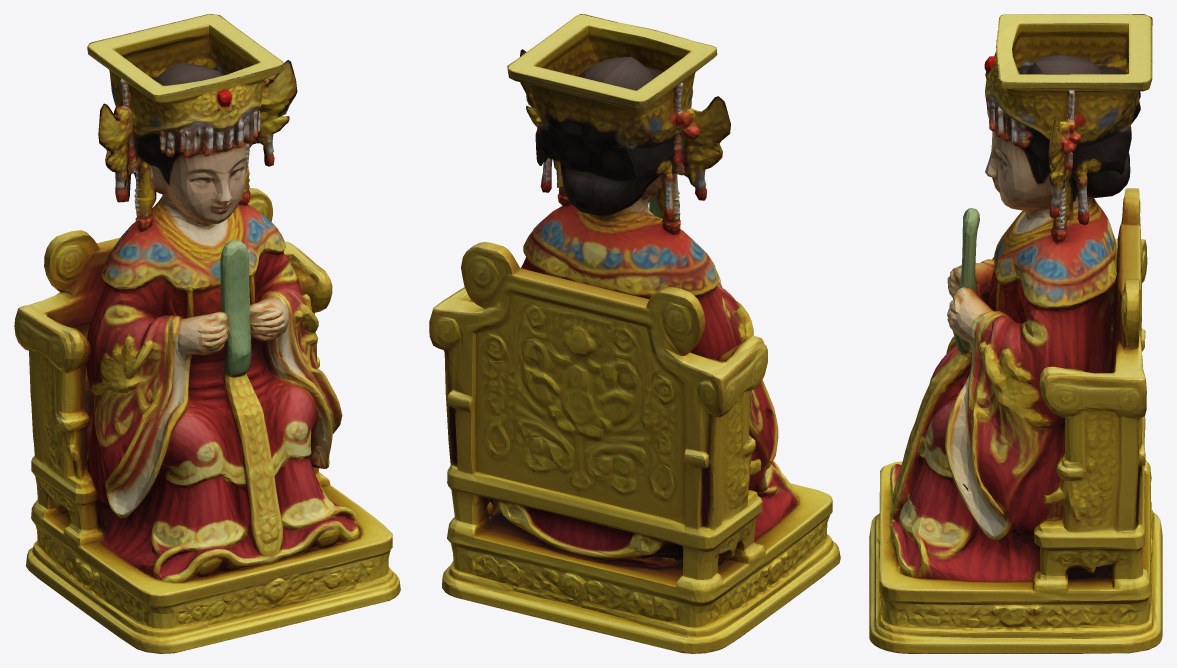
Rendered from mazu.glb.
The picture shows the model from 3 angles, left to right: view 1: azimuth 30°, elevation 25°; view 2: azimuth 150°, elevation 25°; view 3: azimuth 270°, elevation 25°; orthographic projection. The views are drawn at different scales.
Visible parts, largest first — view 1: world; view 2: world; view 3: world.
Boxes of the visible parts, x1,y1,x2,y2 form: world: (14,14,400,653); world: (429,14,840,653); world: (869,14,1162,653).
Size of the model in its own units: 0.5737 by 0.9992 by 0.4948.
1 material, 1 textured.
